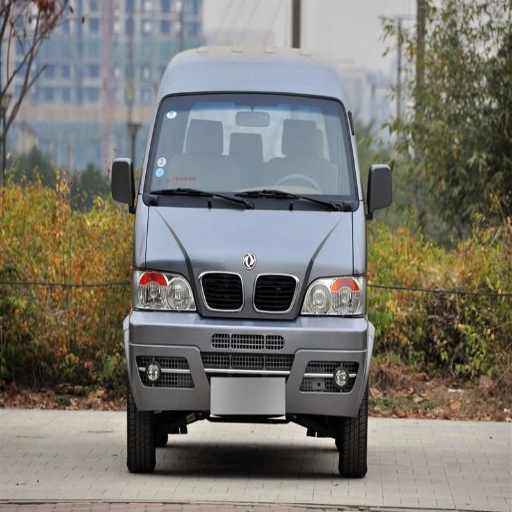front_bumper: (126, 270, 373, 416)
front_right_light: (134, 264, 193, 310)
hood: (145, 208, 355, 282)
